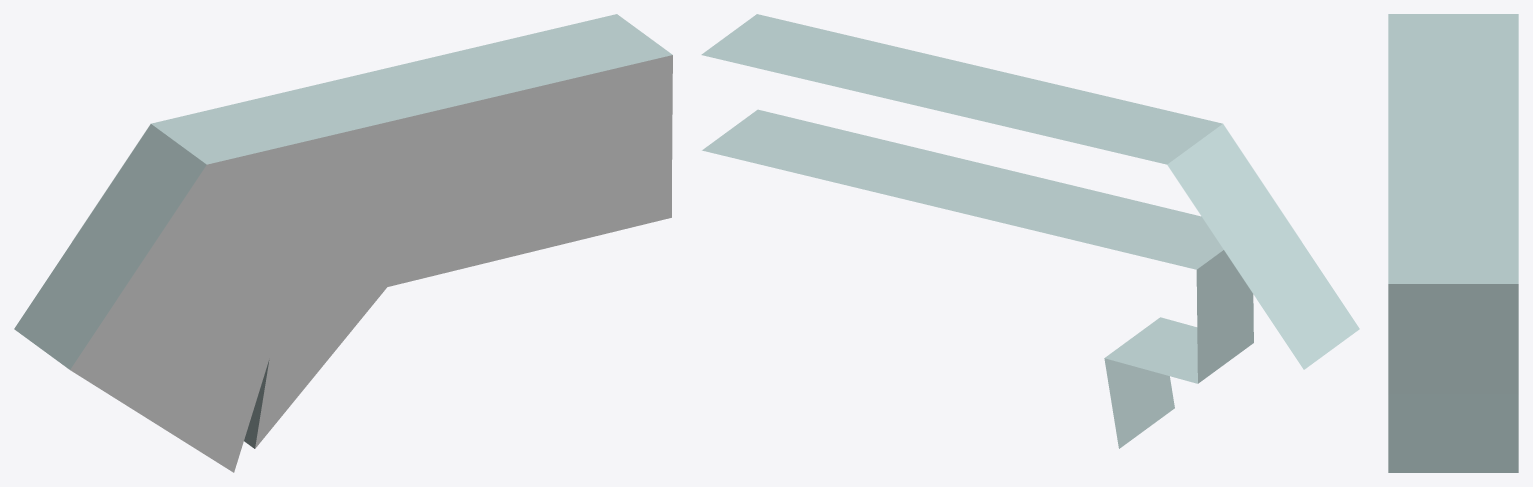
3 views of the same model, side by side, from view 1: azimuth 30°, elevation 25°; view 2: azimuth 150°, elevation 25°; view 3: azimuth 270°, elevation 25° (orthographic). The views are drawn at different scales.
Visible parts, largest first — view 1: 0_2_1_0_1_1_2_1_0; view 2: 0_2_1_0_1_1_2_1_0; view 3: 0_2_1_0_1_1_2_1_0.
Boxes of the visible parts, x1=… form: 0_2_1_0_1_1_2_1_0: x1=14, y1=14, x2=672, y2=472; 0_2_1_0_1_1_2_1_0: x1=701, y1=14, x2=1359, y2=448; 0_2_1_0_1_1_2_1_0: x1=1388, y1=14, x2=1518, y2=472.
Size of the model in its own units: 18.65 by 9.31 by 3.
